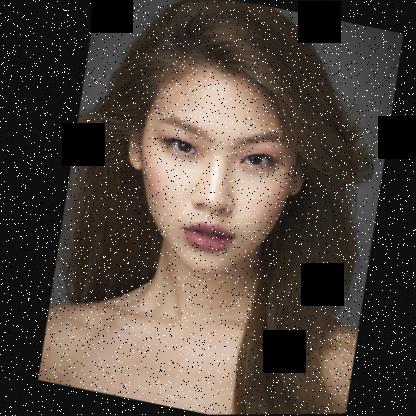Female: (98, 54, 325, 289)
